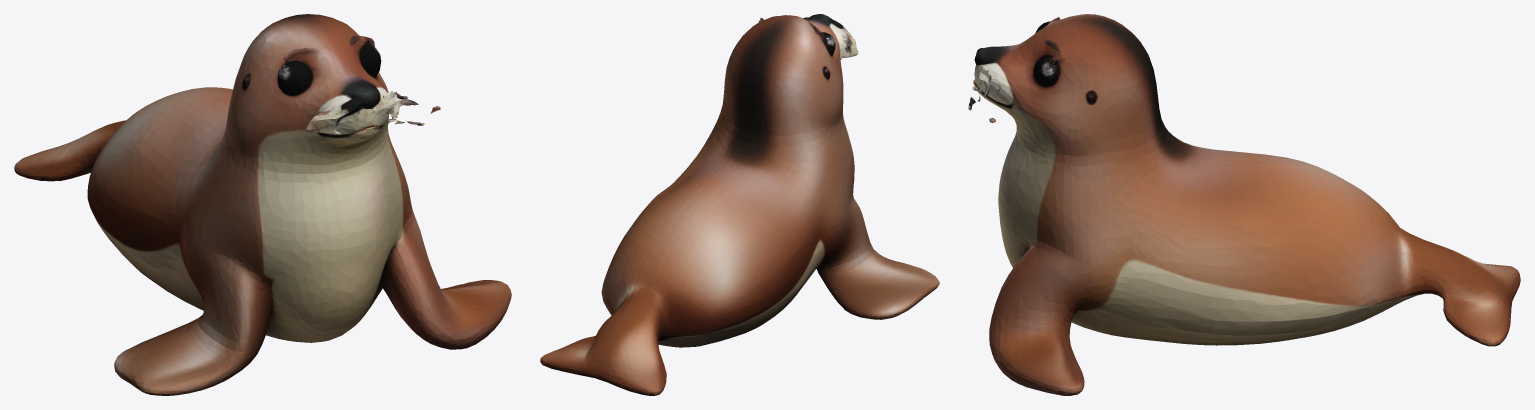
File: australian_sea_lion.glb
The picture shows the model from 3 angles, left to right: view 1: azimuth 30°, elevation 25°; view 2: azimuth 150°, elevation 25°; view 3: azimuth 270°, elevation 25°; orthographic projection. The views are drawn at different scales.
Visible parts, largest first — view 1: geometry_0; view 2: geometry_0; view 3: geometry_0.
Boxes of the visible parts, x1,y1,x2,y2 form: geometry_0: (14, 14, 511, 395); geometry_0: (540, 14, 939, 395); geometry_0: (968, 14, 1520, 395).
Bounding box in the file's own units: 0.6904 × 0.5848 × 0.947.
1 material, 1 textured.
